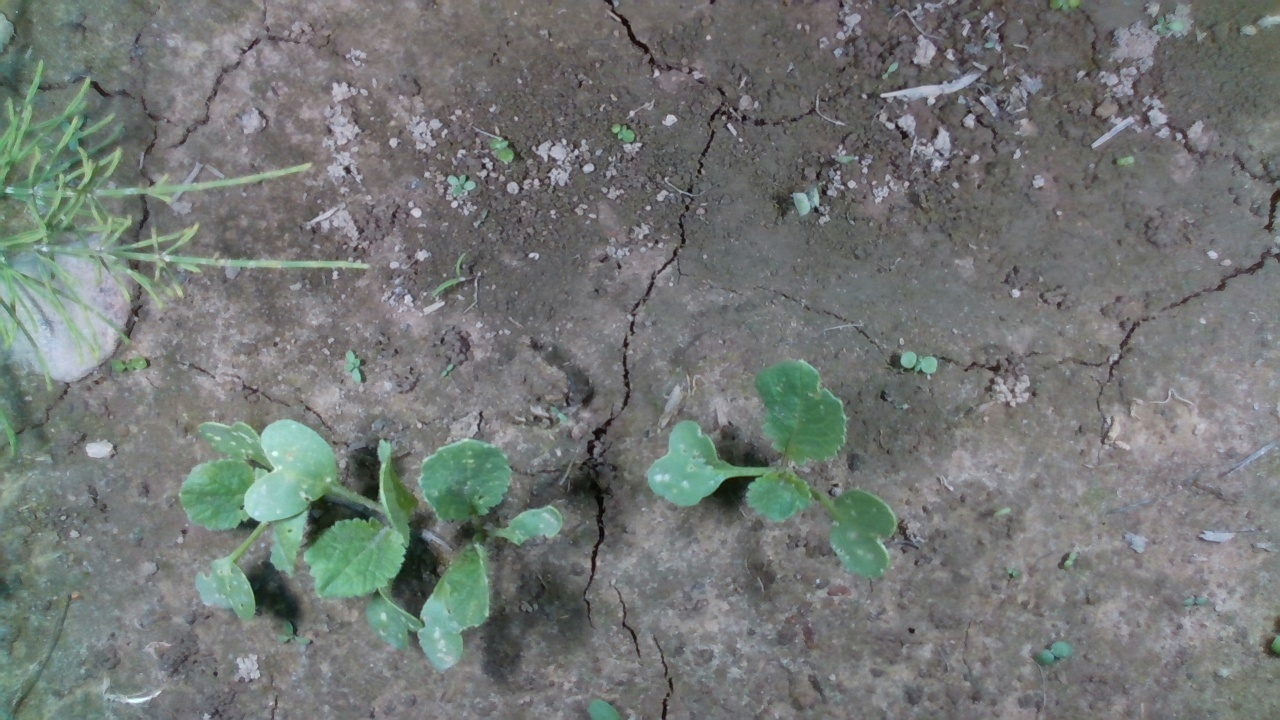weed: (1029, 640, 1070, 668), (898, 350, 939, 376)
